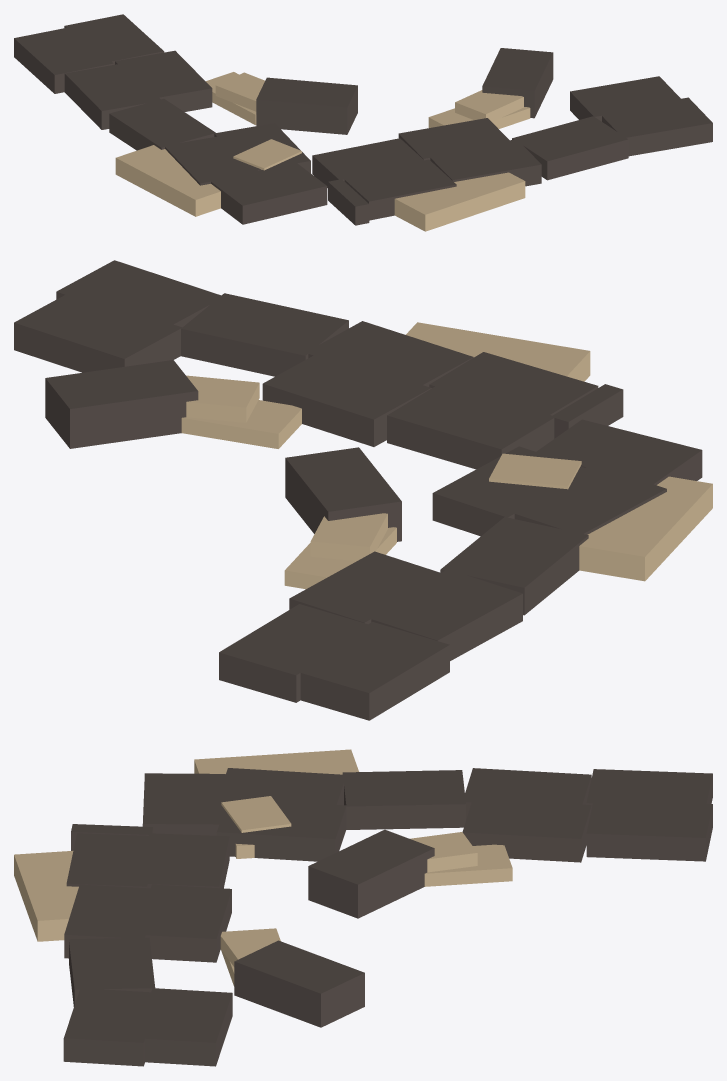
File: SM_PretilEsquina_v3_Tablon_e3_Brecha_LOD1.fbx
The picture shows the model from 3 angles, top to bottom: view 1: azimuth 30°, elevation 25°; view 2: azimuth 150°, elevation 25°; view 3: azimuth 270°, elevation 25°; orthographic projection. The views are drawn at different scales.
Visible parts, largest first — view 1: SM_pretil_azotea_v35_LOD1; view 2: SM_pretil_azotea_v35_LOD1; view 3: SM_pretil_azotea_v35_LOD1.
Part boxes in pixels (x1=…): SM_pretil_azotea_v35_LOD1: x1=14, y1=14, x2=712, y2=231; SM_pretil_azotea_v35_LOD1: x1=14, y1=260, x2=712, y2=720; SM_pretil_azotea_v35_LOD1: x1=14, y1=749, x2=712, y2=1066.
Bounding box in the file's own units: 4.85 × 0.26 × 4.84.
